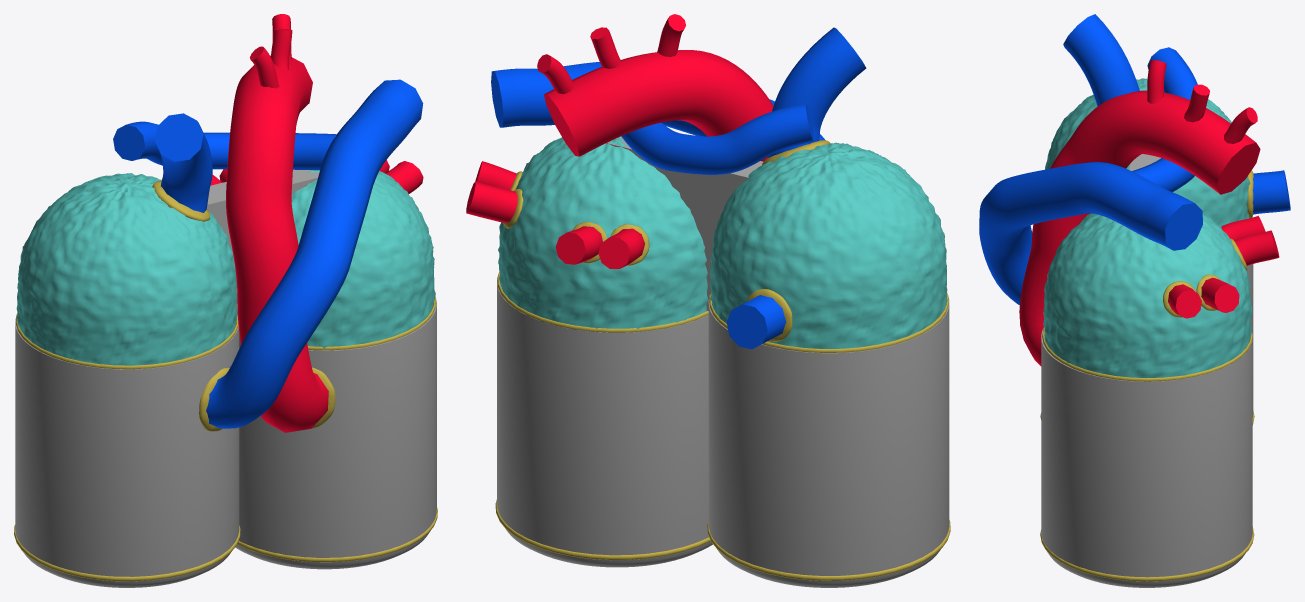
The model's file is serce3.glb.
3 views of the same model, side by side, from view 1: azimuth 30°, elevation 25°; view 2: azimuth 150°, elevation 25°; view 3: azimuth 270°, elevation 25° (orthographic). The views are drawn at different scales.
Visible parts, largest first — view 1: cylindry, kopuły, żyły, tętnice, uszczelki; view 2: cylindry, kopuły, tętnice, żyły, uszczelki; view 3: cylindry, kopuły, żyły, tętnice, uszczelki.
Part boxes in pixels (x1,y1,x2,y2): cylindry: [15, 169, 436, 587]; kopuły: [16, 170, 435, 365]; żyły: [113, 79, 423, 428]; tętnice: [210, 14, 423, 432]; uszczelki: [14, 180, 437, 581]; cylindry: [497, 138, 949, 587]; kopuły: [498, 136, 947, 348]; tętnice: [466, 14, 773, 268]; żyły: [491, 27, 866, 349]; uszczelki: [495, 140, 950, 580]; cylindry: [1041, 154, 1253, 587]; kopuły: [1043, 78, 1252, 377]; żyły: [979, 14, 1290, 305]; tętnice: [1019, 60, 1279, 366]; uszczelki: [1040, 170, 1254, 581].
Size of the model in its own units: 1.83 by 2.09 by 1.28.
